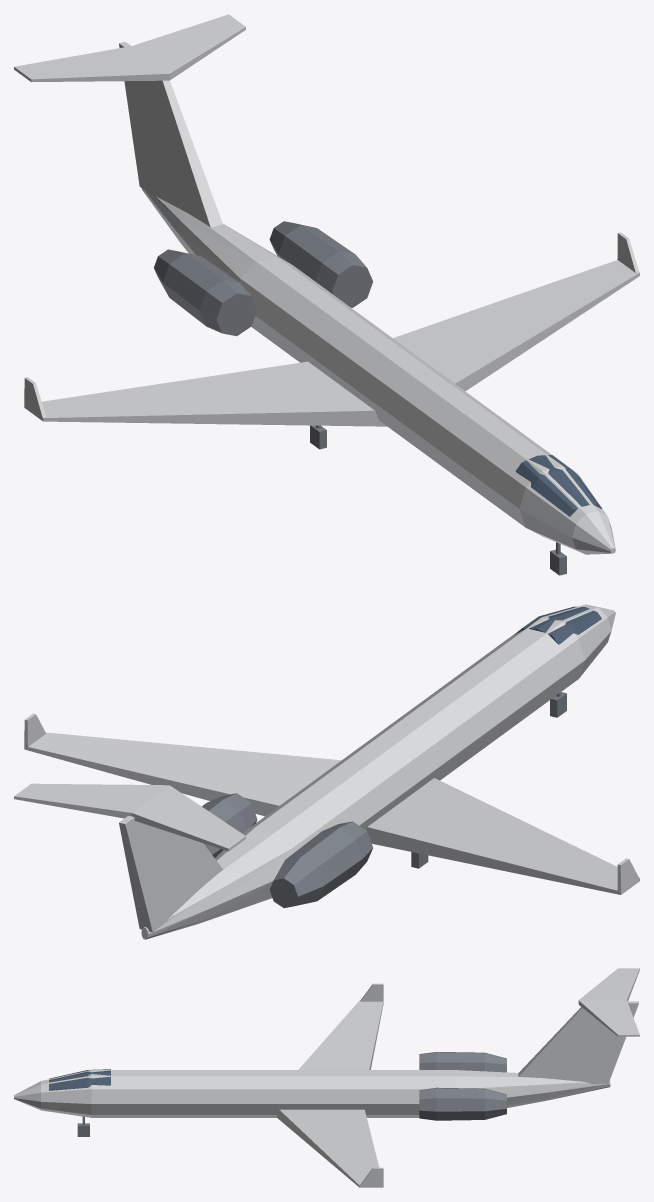
The model's file is regional-jet.glb.
The picture shows the model from 3 angles, top to bottom: view 1: azimuth 30°, elevation 25°; view 2: azimuth 150°, elevation 25°; view 3: azimuth 270°, elevation 25°; orthographic projection. The views are drawn at different scales.
Visible parts, largest first — view 1: regional-jet; view 2: regional-jet; view 3: regional-jet.
Part boxes in pixels (box(x1,y1,x2,y2)): regional-jet: box(14, 14, 639, 575); regional-jet: box(14, 604, 639, 939); regional-jet: box(14, 968, 639, 1187).
Bounding box in the file's own units: 1 × 0.3408 × 1.43.
